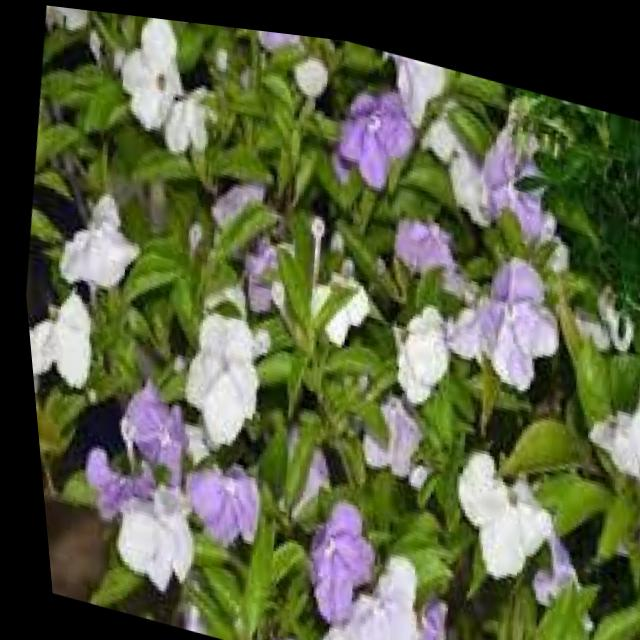Flower: (64, 438, 212, 592), (432, 419, 571, 580), (435, 231, 568, 383), (165, 296, 279, 447), (100, 9, 217, 141), (36, 176, 149, 298), (283, 477, 377, 614), (320, 76, 423, 196), (458, 122, 562, 237), (559, 332, 640, 477), (177, 455, 275, 565), (104, 367, 192, 487), (20, 280, 98, 406), (375, 284, 446, 400), (156, 82, 228, 161)
